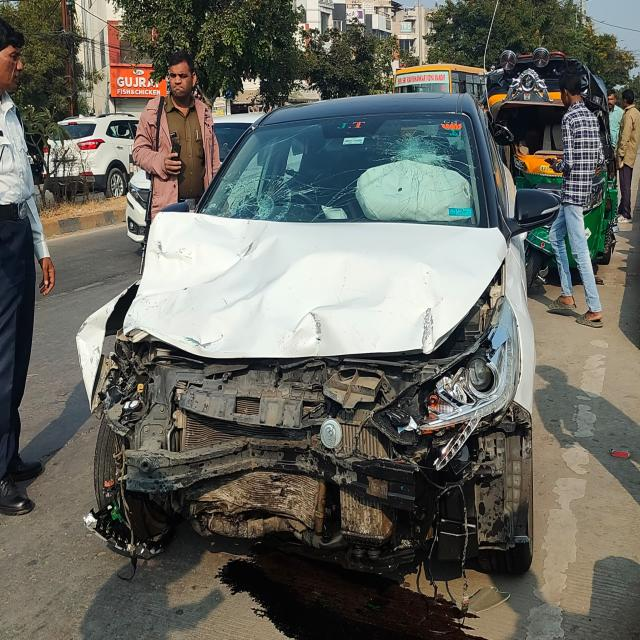accident: (76, 93, 559, 573)
car: (48, 113, 139, 200)
